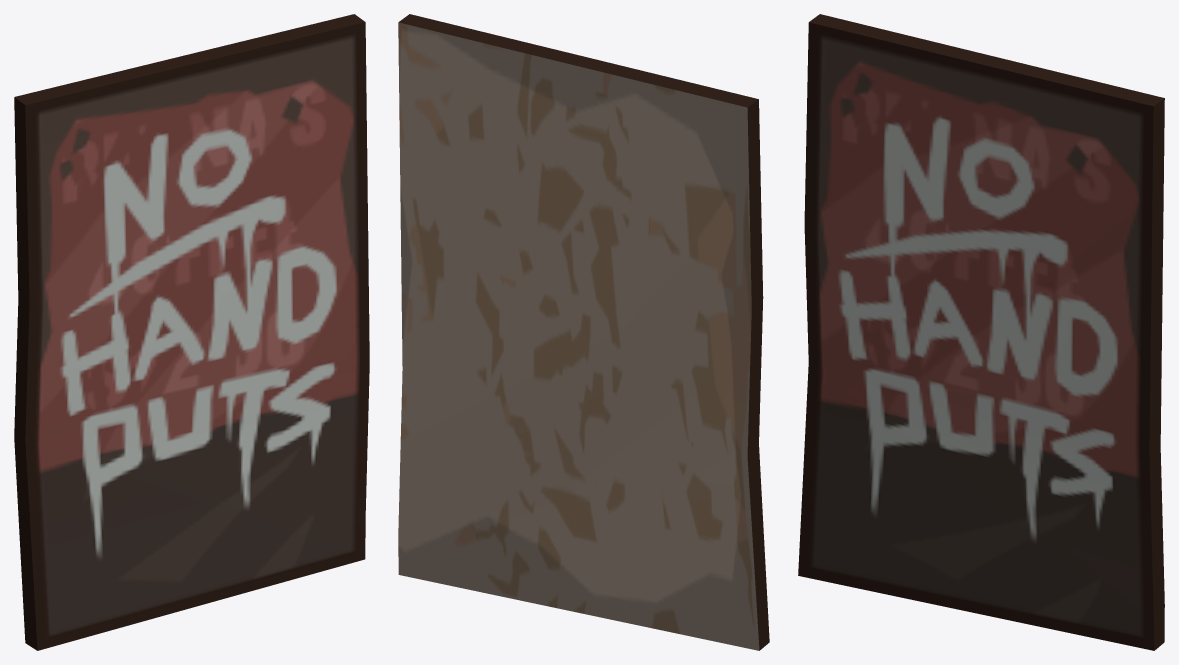
File: SM_Prop_Sign_Custom_08.fbx
3 views of the same model, side by side, from view 1: azimuth 30°, elevation 25°; view 2: azimuth 150°, elevation 25°; view 3: azimuth 330°, elevation 25° (orthographic). The views are drawn at different scales.
Parts seen in each view (by area): view 1: SM_Prop_Sign_Custom_08; view 2: SM_Prop_Sign_Custom_08; view 3: SM_Prop_Sign_Custom_08.
Part boxes in pixels (<box>): SM_Prop_Sign_Custom_08: <box>14,14,369,650</box>; SM_Prop_Sign_Custom_08: <box>398,14,769,650</box>; SM_Prop_Sign_Custom_08: <box>798,14,1164,650</box>.
Bounding box in the file's own units: 111 × 168 × 13.01.
